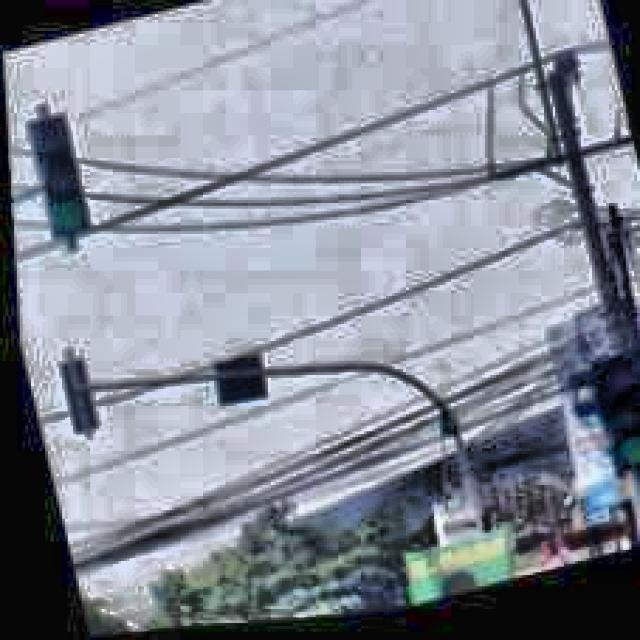green: (24, 114, 94, 247), (581, 352, 637, 488)
